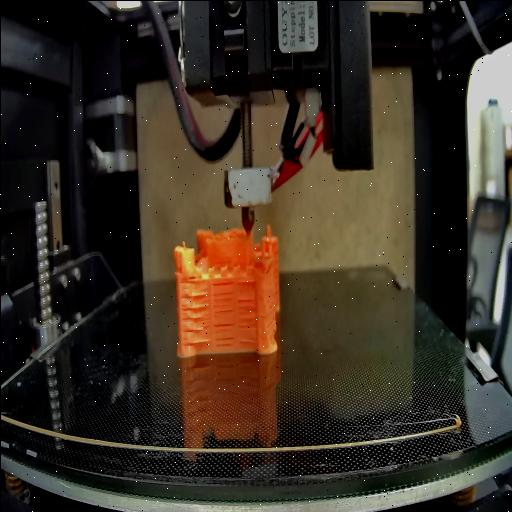cracks: (178, 292, 210, 346), (212, 276, 234, 346), (236, 293, 258, 343), (236, 278, 256, 286)
